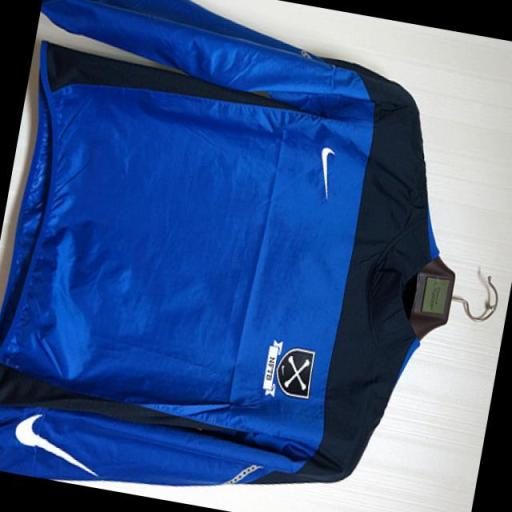Nike: (308, 139, 342, 208)
